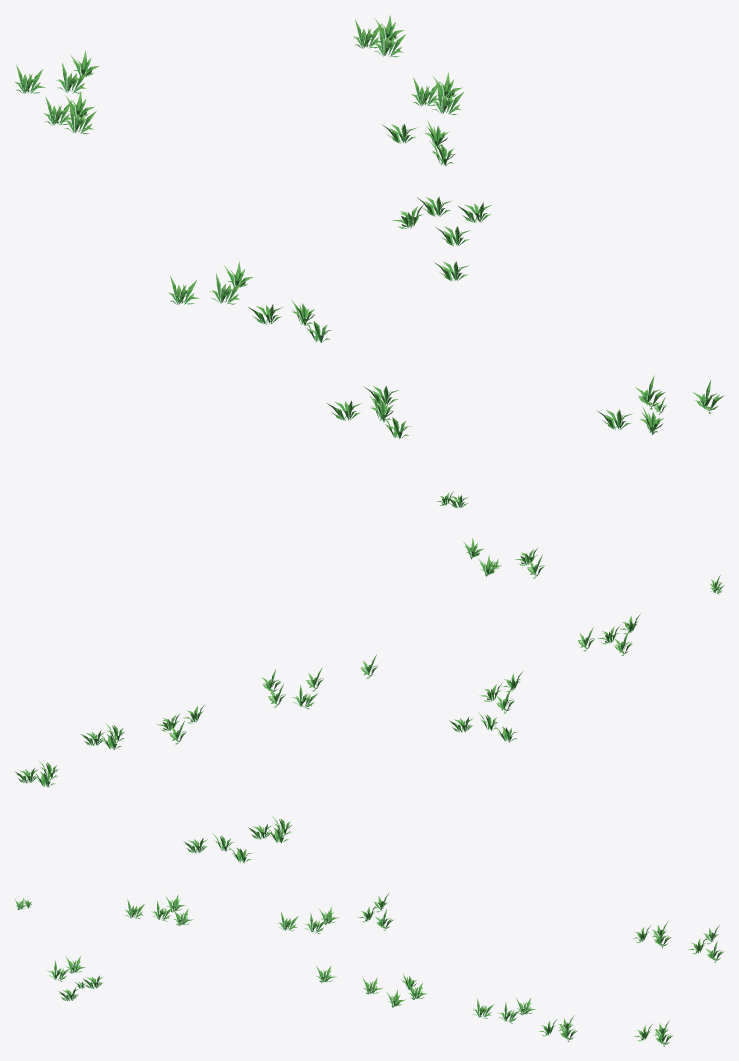
File: Area_12_18.fbx
3 renders of one model, top to bottom at view 1: azimuth 30°, elevation 25°; view 2: azimuth 150°, elevation 25°; view 3: azimuth 270°, elevation 25°, orthographic. The views are drawn at different scales.
Visible parts, largest first — view 1: Area_12_18; view 2: Area_12_18; view 3: Area_12_18.
Boxes of the visible parts, x1,y1,x2,y2 form: Area_12_18: (14, 15, 724, 508); Area_12_18: (14, 537, 724, 863); Area_12_18: (14, 893, 724, 1046).
Size of the model in its own units: 1718 by 93.02 by 3564.
